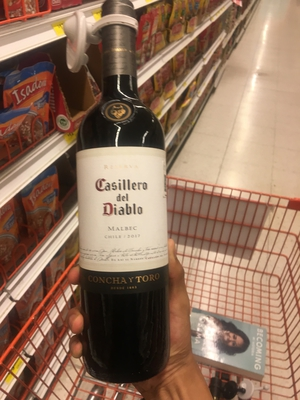casillero del diablo malbec: (69, 2, 200, 394)
